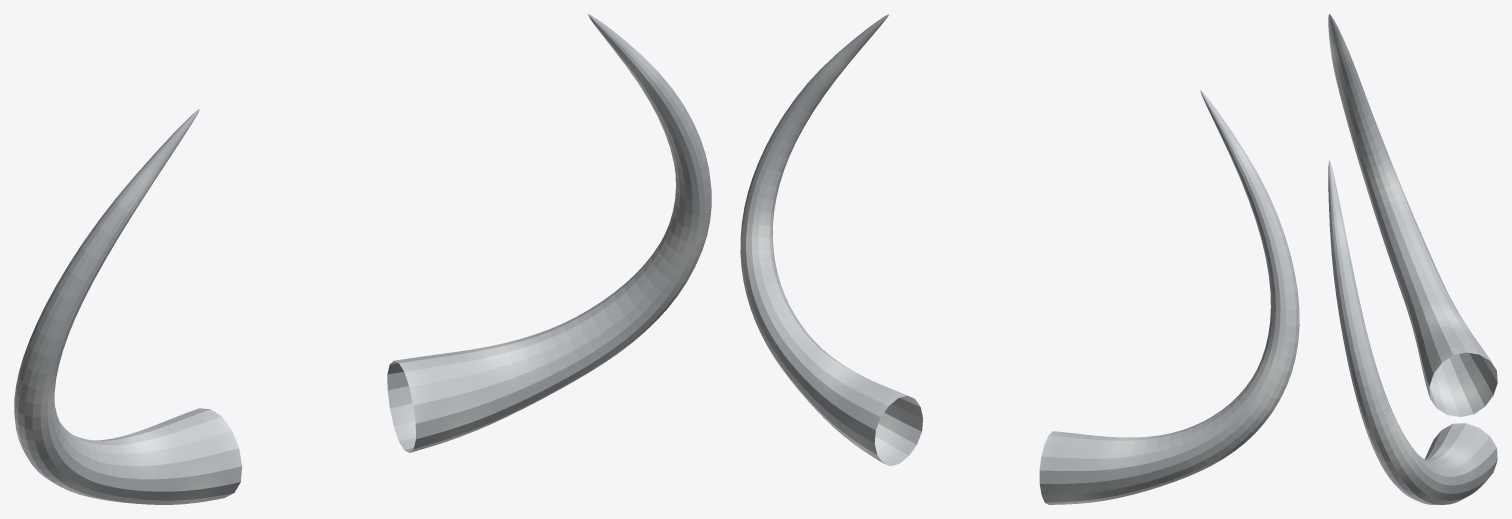
Rendered from mhw_culturalibre_minotaur_horns.glb.
3 renders of one model, left to right at view 1: azimuth 30°, elevation 25°; view 2: azimuth 150°, elevation 25°; view 3: azimuth 270°, elevation 25°, orthographic. The views are drawn at different scales.
Parts seen in each view (by area): view 1: mhw_culturalibre_minotaur_horns; view 2: mhw_culturalibre_minotaur_horns; view 3: mhw_culturalibre_minotaur_horns.
Boxes of the visible parts, bbox=[...] form: mhw_culturalibre_minotaur_horns: bbox=[14, 14, 711, 504]; mhw_culturalibre_minotaur_horns: bbox=[740, 14, 1299, 504]; mhw_culturalibre_minotaur_horns: bbox=[1328, 14, 1497, 504].
Bounding box in the file's own units: 0.4452 × 0.2938 × 0.1233.
1 material, 1 textured.
